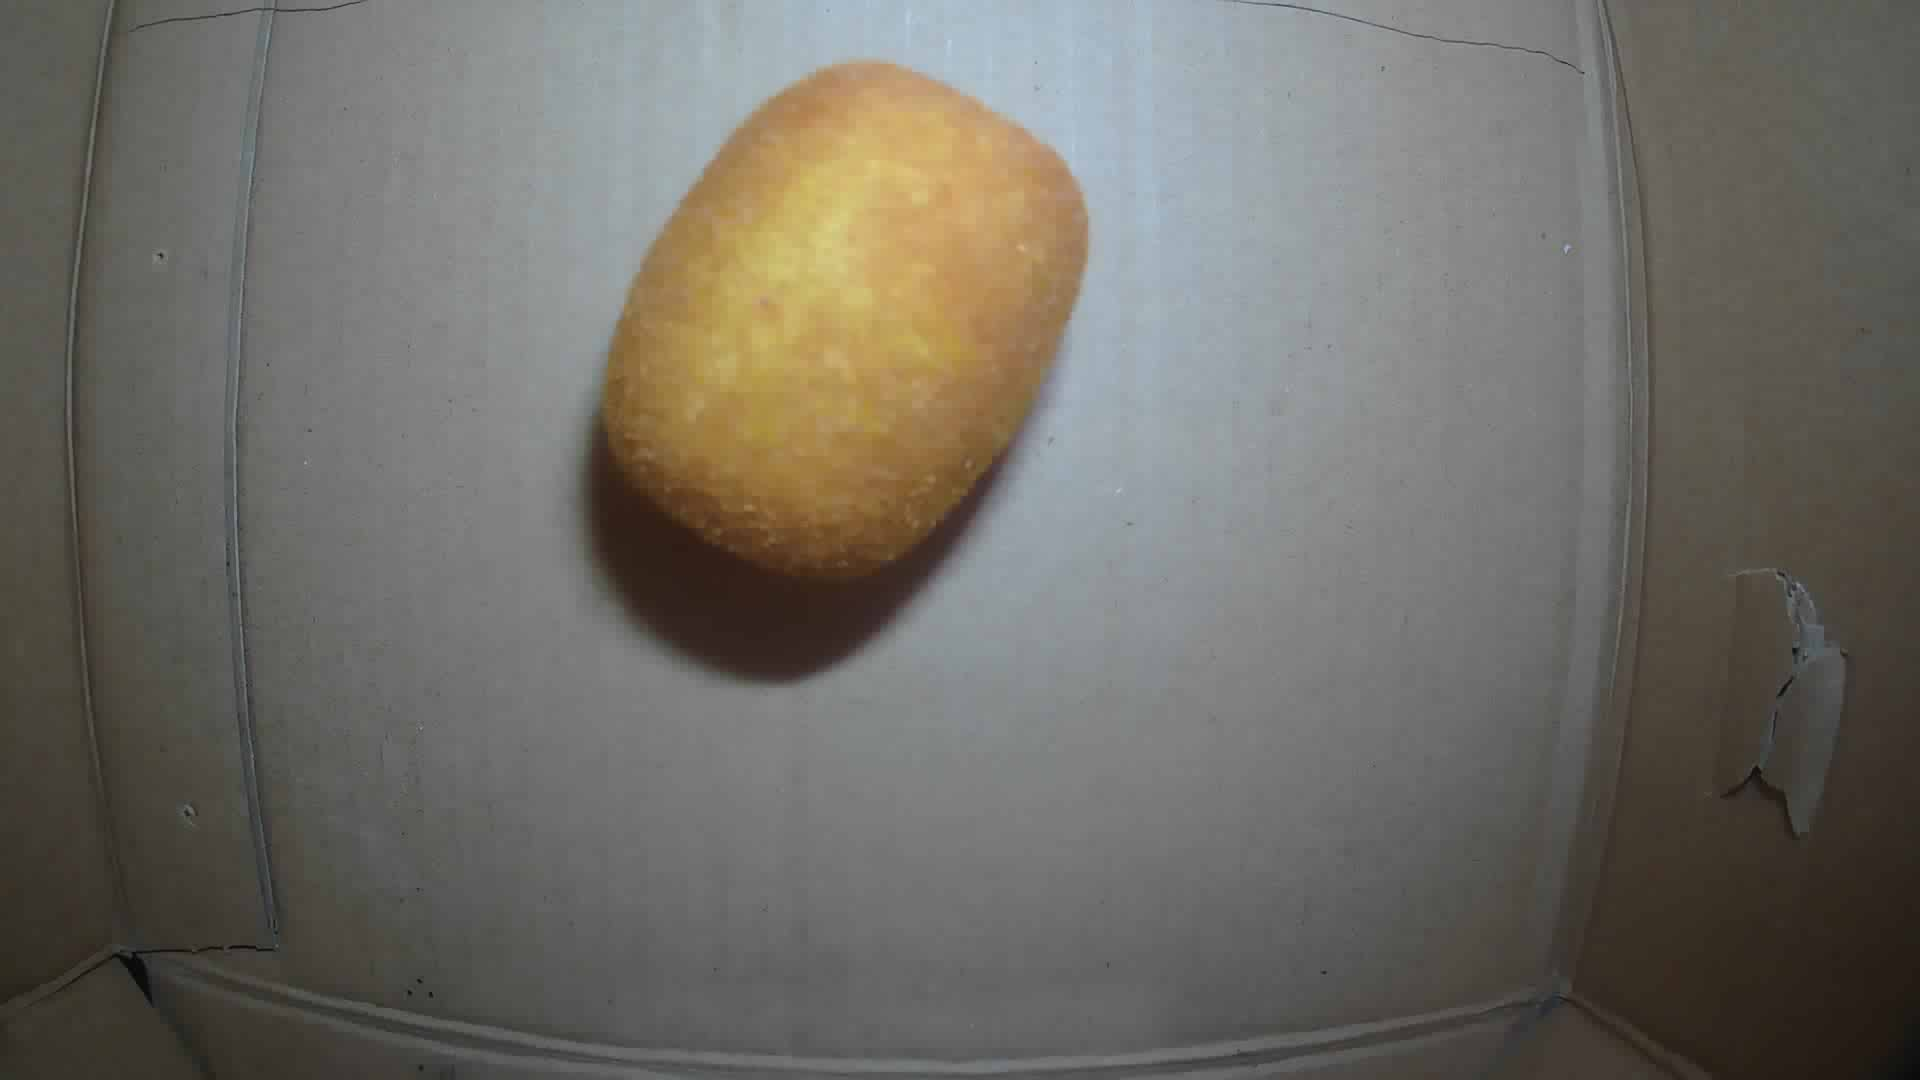kiwi: (592, 58, 1092, 593)
